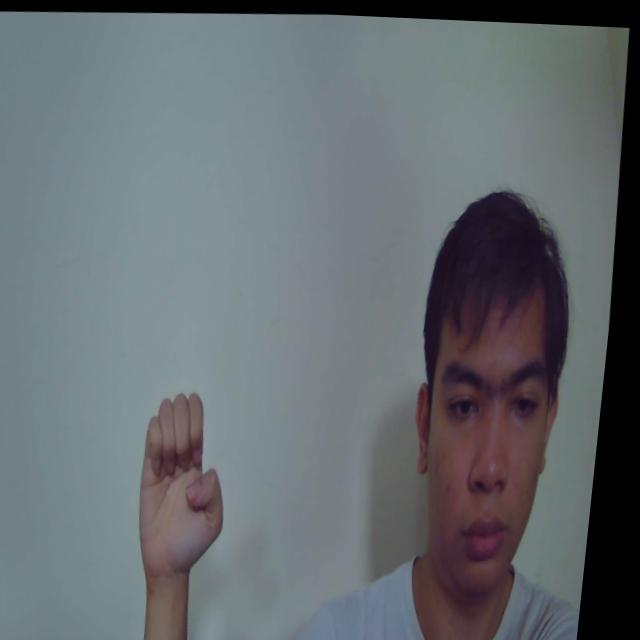E: (140, 385, 248, 574)
